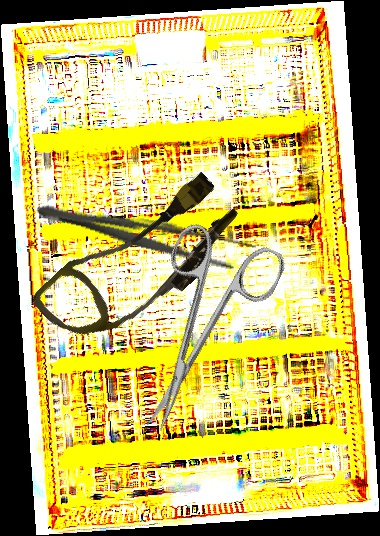Cannula: (28, 153, 253, 372)
Dressing Forceps: (32, 193, 258, 274)
Iris Scissors: (101, 211, 290, 450)
